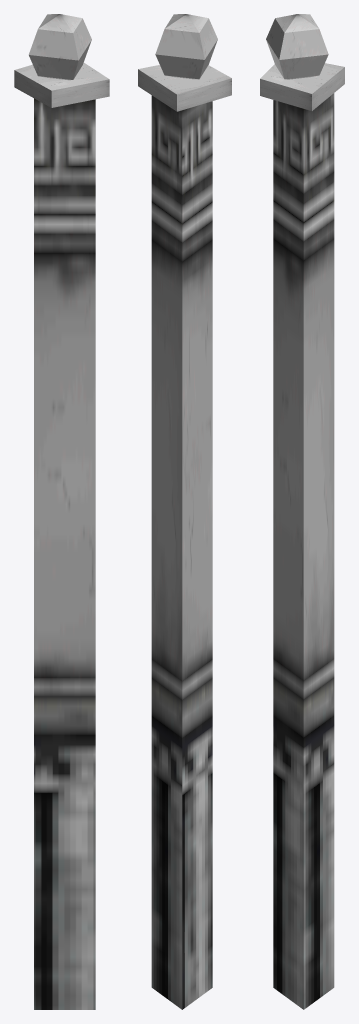
The model's file is ZiersäuleRundHoch [Stein]_111.glb.
The picture shows the model from 3 angles, left to right: view 1: azimuth 30°, elevation 25°; view 2: azimuth 210°, elevation 25°; view 3: azimuth 330°, elevation 25°; orthographic projection.
Parts seen in each view (by area): view 1: pCylinderShape29, pSphereShape50, pPlaneShape4, pPlaneShape5, pPlaneShape1; view 2: pCylinderShape29, pSphereShape50, pPlaneShape5, pPlaneShape2, pPlaneShape3; view 3: pCylinderShape29, pSphereShape50, pPlaneShape5, pPlaneShape4, pPlaneShape3.
Part boxes in pixels (x1=…): pCylinderShape29: x1=34, y1=98, x2=95, y2=1009; pSphereShape50: x1=28, y1=14, x2=91, y2=80; pPlaneShape4: x1=51, y1=79, x2=109, y2=107; pPlaneShape5: x1=15, y1=62, x2=108, y2=90; pPlaneShape1: x1=14, y1=70, x2=51, y2=107; pCylinderShape29: x1=151, y1=95, x2=212, y2=1009; pSphereShape50: x1=155, y1=14, x2=217, y2=79; pPlaneShape5: x1=138, y1=65, x2=231, y2=94; pPlaneShape2: x1=177, y1=78, x2=231, y2=111; pPlaneShape3: x1=138, y1=69, x2=176, y2=111; pCylinderShape29: x1=273, y1=93, x2=334, y2=1009; pSphereShape50: x1=266, y1=14, x2=328, y2=79; pPlaneShape5: x1=260, y1=63, x2=344, y2=93; pPlaneShape4: x1=260, y1=79, x2=311, y2=110; pPlaneShape3: x1=312, y1=67, x2=344, y2=110.
Bounding box in the file's own units: 0.0933 × 1.39 × 0.0952.
Materials: 7 (7 with a texture image).
